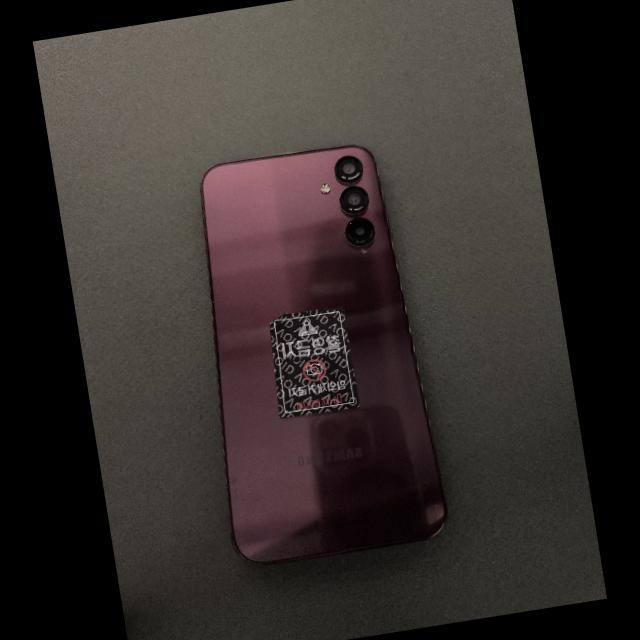lens: (339, 186, 368, 214), (343, 218, 373, 245), (334, 157, 361, 185)
phone: (201, 146, 447, 564)
sticker: (269, 306, 359, 419)
